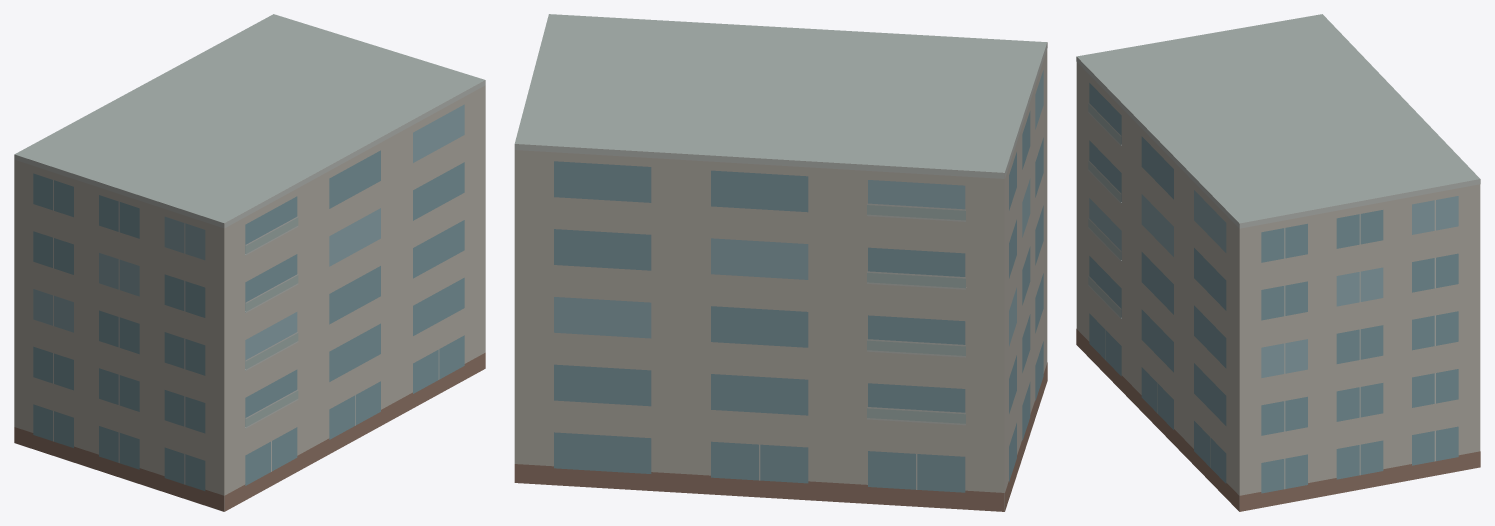
File: survey-upis-32844066.glb
3 views of the same model, side by side, from view 1: azimuth 30°, elevation 25°; view 2: azimuth 150°, elevation 25°; view 3: azimuth 270°, elevation 25° (orthographic). The views are drawn at different scales.
Parts seen in each view (by area): view 1: survey-upis-32844066.tmp; view 2: survey-upis-32844066.tmp; view 3: survey-upis-32844066.tmp.
Boxes of the visible parts, <box> form: survey-upis-32844066.tmp: <box>14,14,485,511</box>; survey-upis-32844066.tmp: <box>514,14,1047,511</box>; survey-upis-32844066.tmp: <box>1076,14,1480,511</box>.
Bounding box in the file's own units: 21.05 × 13.5 × 17.15.
